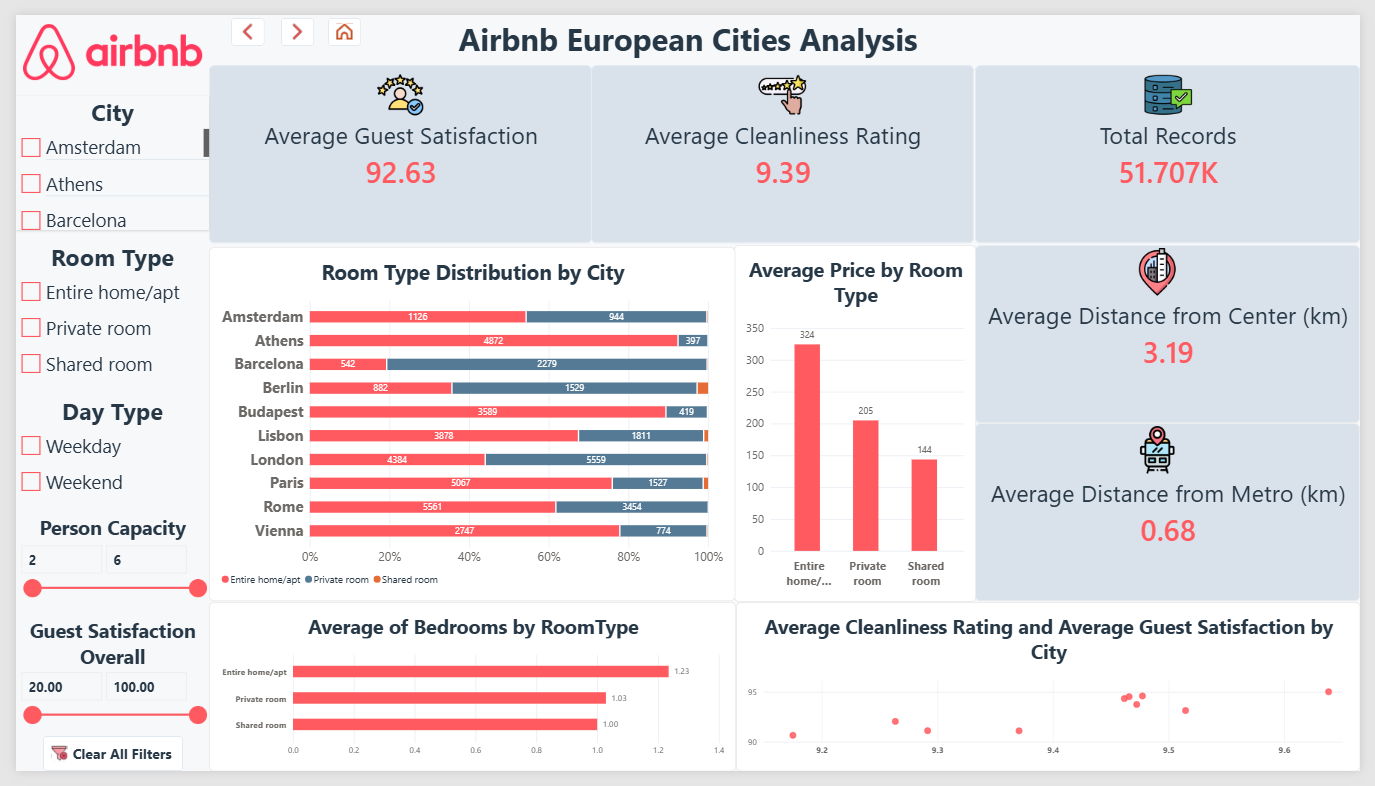

Layout of this report page (visuals, bound fields, positions):
{"tool":"powerbi","page":{"name":"Page 2","canvas":[1920,1080],"ordinal":1},"visuals":[{"type":"cardVisual","fields":{"Data":["Gold FactAirbnb.Total Records"]},"box":[1370,71.4,550,255.7],"z":0,"group":"g2"},{"type":"cardVisual","title":"Average Guest Capacity","fields":{"Data":["Gold FactAirbnb.Average Guest Satisfaction"]},"box":[276,72,547.1,255.7],"z":0},{"type":"cardVisual","fields":{"Data":["Gold FactAirbnb.Average Distance from Center (km)"]},"box":[1370,328,550,255.7],"z":0,"group":"g4"},{"type":"cardVisual","fields":{"Data":["Gold FactAirbnb.Average Distance from Metro (km)"]},"box":[1370,582.5,550,255.7],"z":0,"group":"g5"},{"type":"cardVisual","title":"Average Price (EUR / 2 nights)","fields":{"Data":["Gold FactAirbnb.Average Cleanliness Rating"]},"box":[822,72,547.1,255.7],"z":1000,"group":"g3"},{"type":"clusteredColumnChart","title":"Average Price by Room Type","fields":{"Category":["Gold DimRoomType.RoomType"],"Y":["Gold FactAirbnb.Average Price"]},"box":[1026,328,346,510],"z":1000},{"type":"slicer","title":"City","fields":{"Values":["Gold DimCity.City"]},"box":[0,116,276,192],"z":2000},{"type":"slicer","title":"Room Type","fields":{"Values":["Gold DimRoomType.RoomType"]},"box":[0,322.5,276,206],"z":3000},{"type":"slicer","title":"Day Type","fields":{"Values":["Gold DimDayType.DayType"]},"box":[0,543,276,156],"z":4000},{"type":"textbox","title":"Airbnb European Cities Analysis","box":[0,4,1920,75.7],"z":5000},{"type":"slicer","title":"Person Capacity","fields":{"Values":["Gold FactAirbnb.PersonCapacity"]},"box":[0,713.5,276,132],"z":6000},{"type":"actionButton","box":[38.3,1030,200,50],"z":7000},{"type":"image","box":[10,0,256,106],"z":8000},{"type":"group","id":"g1","title":"Group 2","box":[1027.5,80,138,68],"z":9000},{"type":"group","id":"g2","title":"Group 3","box":[1370,71.4,550,255.7],"z":10000},{"type":"image","box":[480,80,138,68],"z":11000},{"type":"group","id":"g3","title":"Group 2","box":[822,72,547.1,255.7],"z":12000},{"type":"image","box":[1026,80,138,68],"z":13000},{"type":"image","box":[1027.5,80,138,68],"z":14000,"group":"g1"},{"type":"slicer","title":"Guest Satisfaction Overall","fields":{"Values":["Gold FactAirbnb.GuestSatisfactionOverall"]},"box":[0,860,276,170],"z":14000},{"type":"image","box":[1577.5,80,138,68],"z":15000,"group":"g2"},{"type":"group","id":"g4","title":"Group 3","box":[1370,328,550,255.7],"z":15000},{"type":"group","id":"g5","title":"Group 3","box":[1370,582.5,550,255],"z":16000},{"type":"image","box":[1562,332,138,68],"z":16002,"group":"g4"},{"type":"image","box":[1562,586.5,138,68],"z":16002,"group":"g5"},{"type":"actionButton","box":[378,4,47,40],"z":17000},{"type":"actionButton","box":[307,4,48,40],"z":18000},{"type":"actionButton","box":[446,4,47,40],"z":19000},{"type":"scatterChart","fields":{"Category":["Gold DimCity.City"],"X":["Gold FactAirbnb.Average Cleanliness Rating"],"Y":["Gold FactAirbnb.Average Guest Satisfaction"]},"box":[1028.3,838.3,891.7,241.7],"z":20000},{"type":"hundredPercentStackedBarChart","title":"Room Type Distribution by City","fields":{"Category":["Gold DimCity.City"],"Series":["Gold DimRoomType.RoomType"],"Y":["Gold FactAirbnb.Total Records"]},"box":[276,332,752,506],"z":21000},{"type":"clusteredBarChart","fields":{"Category":["Gold DimRoomType.RoomType"],"Y":["Avg(Gold FactAirbnb.Bedrooms)"]},"box":[275,838.3,753.3,241.7],"z":22000}]}

Visuals, with their boxes in screenshot pixels (x1, y1, x2, y2), scaled from the page's 1920x1080 canvas onto the 1375x786 screenshot:
cardVisual - Gold FactAirbnb.Total Records: <bbox>981, 52, 1374, 238</bbox>
"Average Guest Capacity" cardVisual: <bbox>198, 52, 589, 238</bbox>
cardVisual - Gold FactAirbnb.Average Distance from Center (km): <bbox>981, 239, 1374, 425</bbox>
cardVisual - Gold FactAirbnb.Average Distance from Metro (km): <bbox>981, 424, 1374, 610</bbox>
"Average Price (EUR / 2 nights)" cardVisual: <bbox>589, 52, 980, 238</bbox>
"Average Price by Room Type" clusteredColumnChart: <bbox>735, 239, 983, 610</bbox>
"City" slicer: <bbox>0, 84, 198, 224</bbox>
"Room Type" slicer: <bbox>0, 235, 198, 385</bbox>
"Day Type" slicer: <bbox>0, 395, 198, 509</bbox>
"Airbnb European Cities Analysis" textbox: <bbox>0, 3, 1374, 58</bbox>
"Person Capacity" slicer: <bbox>0, 519, 198, 615</bbox>
actionButton: <bbox>27, 750, 171, 785</bbox>
image: <bbox>7, 0, 190, 77</bbox>
"Group 2" group: <bbox>736, 58, 835, 108</bbox>
"Group 3" group: <bbox>981, 52, 1374, 238</bbox>
image: <bbox>344, 58, 443, 108</bbox>
"Group 2" group: <bbox>589, 52, 980, 238</bbox>
image: <bbox>735, 58, 834, 108</bbox>
image: <bbox>736, 58, 835, 108</bbox>
"Guest Satisfaction Overall" slicer: <bbox>0, 626, 198, 750</bbox>
image: <bbox>1130, 58, 1229, 108</bbox>
"Group 3" group: <bbox>981, 239, 1374, 425</bbox>
"Group 3" group: <bbox>981, 424, 1374, 610</bbox>
image: <bbox>1119, 242, 1217, 291</bbox>
image: <bbox>1119, 427, 1217, 476</bbox>
actionButton: <bbox>271, 3, 304, 32</bbox>
actionButton: <bbox>220, 3, 254, 32</bbox>
actionButton: <bbox>319, 3, 353, 32</bbox>
scatterChart - Gold DimCity.City x Gold FactAirbnb.Average Cleanliness Rating: <bbox>736, 610, 1374, 785</bbox>
"Room Type Distribution by City" hundredPercentStackedBarChart: <bbox>198, 242, 736, 610</bbox>
clusteredBarChart - Gold DimRoomType.RoomType x Avg(Gold FactAirbnb.Bedrooms): <bbox>197, 610, 736, 785</bbox>
